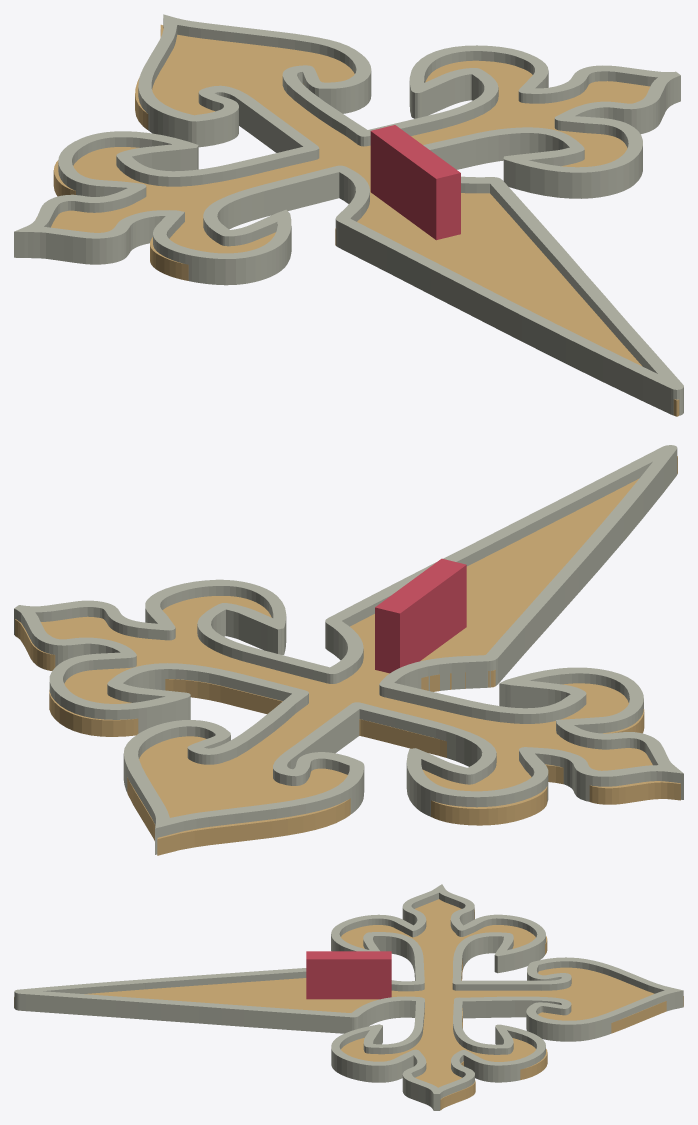
File: asset.glb
The picture shows the model from 3 angles, top to bottom: view 1: azimuth 30°, elevation 25°; view 2: azimuth 150°, elevation 25°; view 3: azimuth 270°, elevation 25°; orthographic projection. The views are drawn at different scales.
Parts seen in each view (by area): view 1: Mesh_Mesh_head_geo.001_lambert2SG.001; view 2: Mesh_Mesh_head_geo.001_lambert2SG.001; view 3: Mesh_Mesh_head_geo.001_lambert2SG.001.
Part boxes in pixels (x1,y1,x2,y2): Mesh_Mesh_head_geo.001_lambert2SG.001: (14, 14, 683, 416); Mesh_Mesh_head_geo.001_lambert2SG.001: (14, 445, 683, 855); Mesh_Mesh_head_geo.001_lambert2SG.001: (14, 884, 683, 1110).
Bounding box in the file's own units: 106 × 11.9 × 143.
